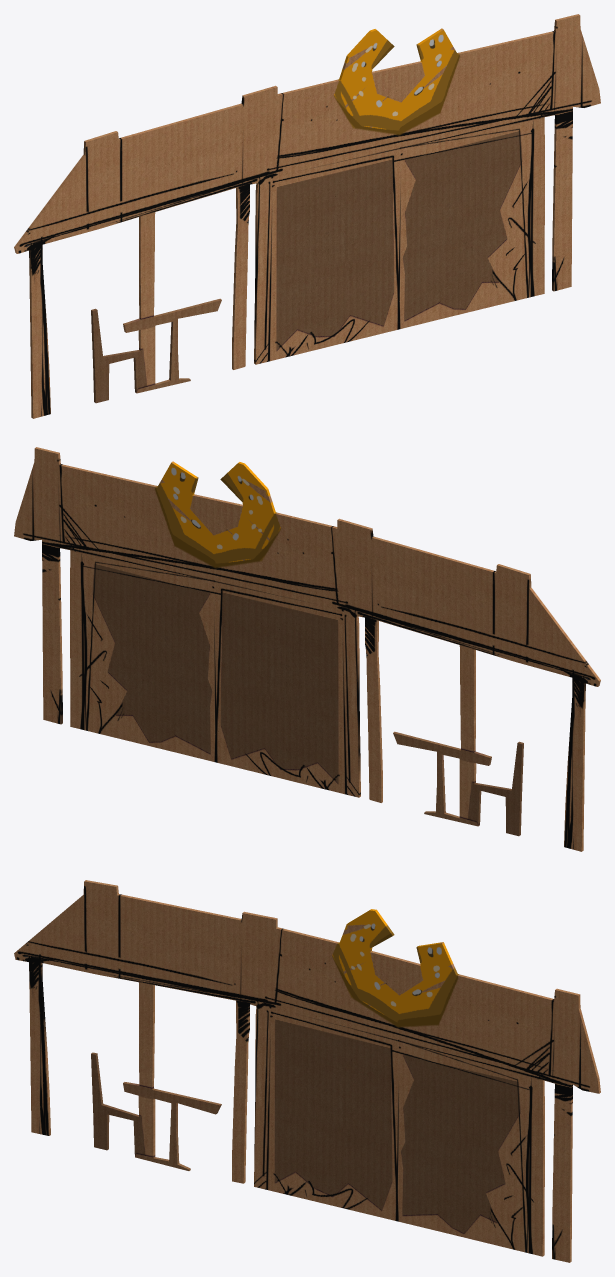
The model's file is shop_3.FBX.
3 renders of one model, top to bottom at view 1: azimuth 30°, elevation 25°; view 2: azimuth 150°, elevation 25°; view 3: azimuth 330°, elevation 25°, orthographic.
Visible parts, largest first — view 1: shop_3; view 2: shop_3; view 3: shop_3.
Part boxes in pixels (x1,y1,x2,y2): shop_3: (14,14,600,418); shop_3: (14,447,600,851); shop_3: (14,880,600,1262).
Bounding box in the file's own units: 1330 × 664 × 7.
1 material, 1 textured.
